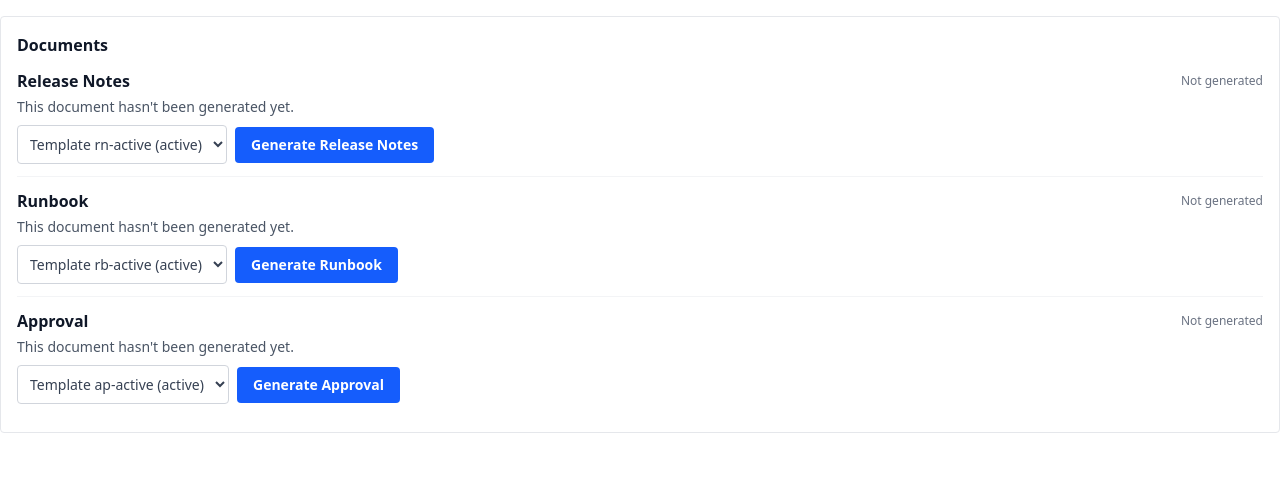
Test: DocumentsSection › generationErrorIsScopedToItsOwnRow
Expected: the heading "Release Notes" is shown, [17, 69, 130, 93]
Expected: the element that starts with "Release Notes" is shown, [17, 57, 1263, 177]
Step 1. Click the button "Generate Release Notes" → coordinates (335, 144), box [235, 126, 434, 162]
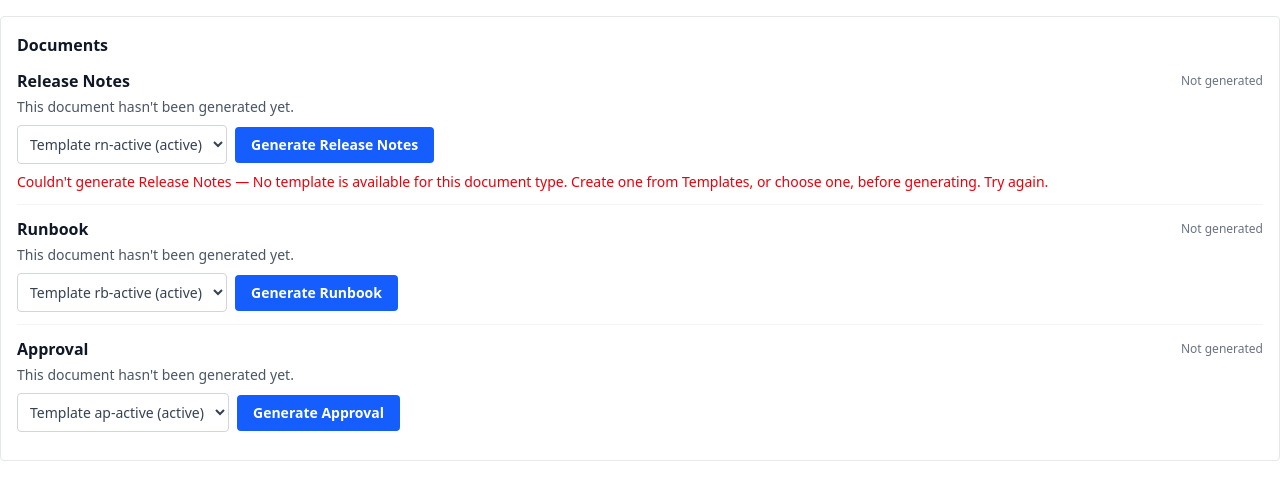
Expected: the message is shown, [17, 172, 1048, 191]
